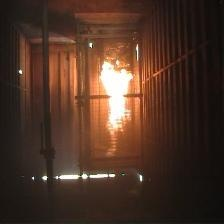fire: (101, 53, 134, 143)
